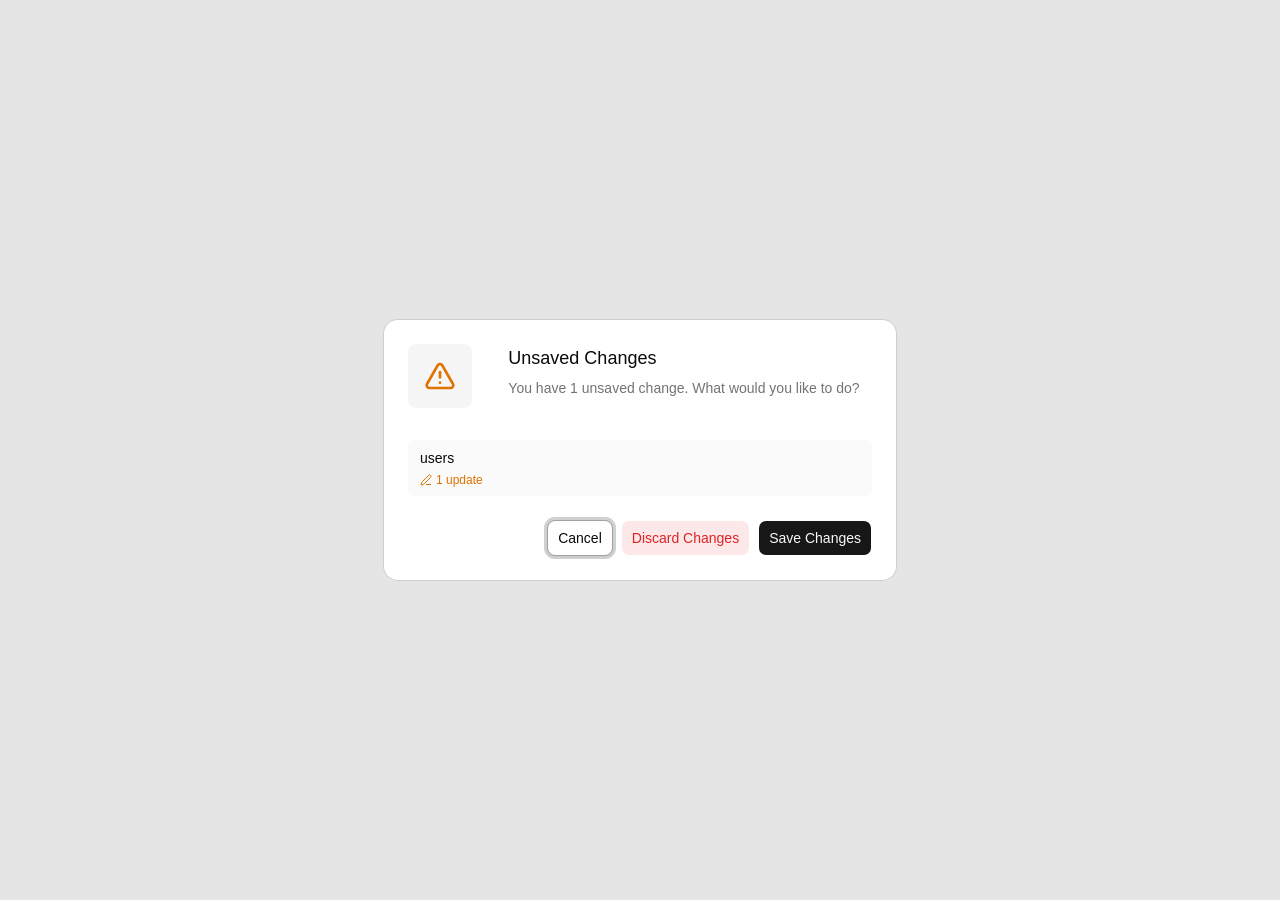
unsavedChangesDialog › error handling › should keep dialog open when save fails
Click the button "Save Changes". click: click(815, 538)
box: [758,520,872,556]
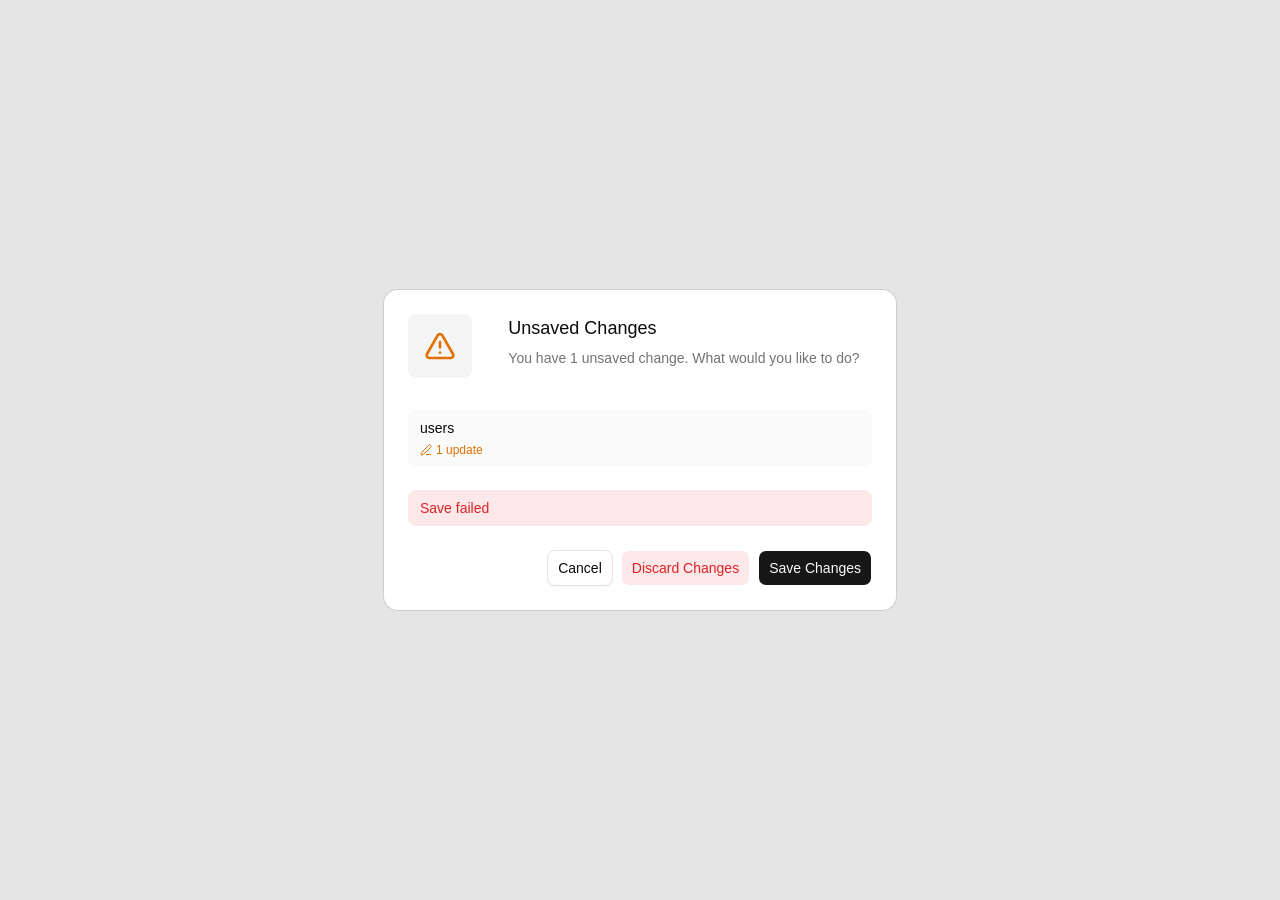
Check: the heading "Unsaved Changes" is shown, box [508,314,656,342]
Check: the text "Save failed" is shown, box [408,490,872,526]
